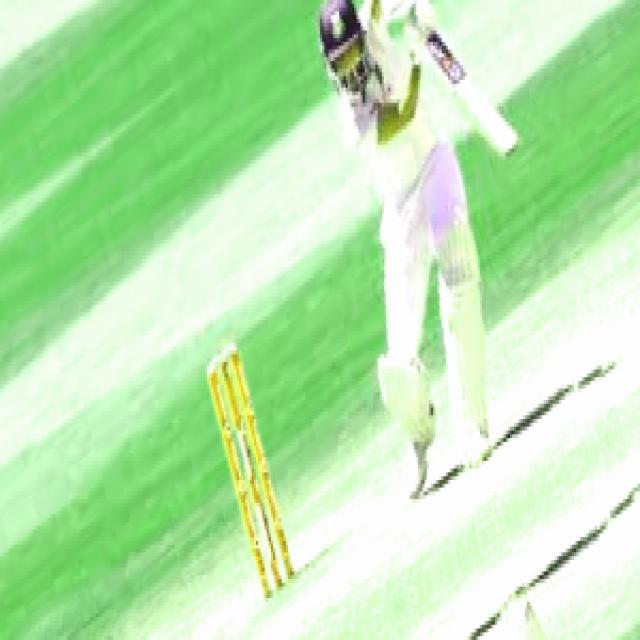toe: (494, 121, 521, 158)
